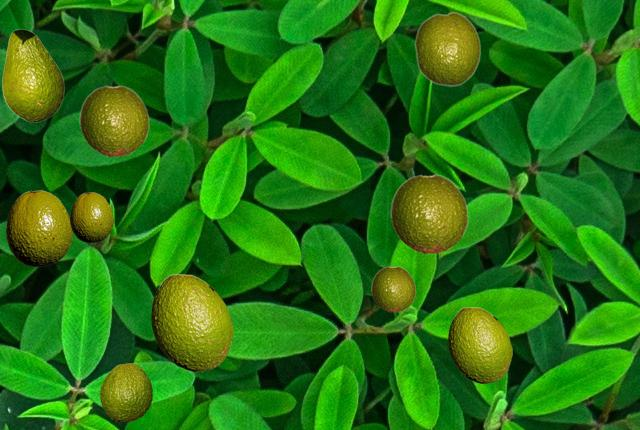avocado: (151, 274, 232, 370), (390, 174, 468, 253), (2, 29, 63, 121), (79, 85, 149, 156), (414, 11, 480, 86), (6, 190, 71, 265), (448, 307, 511, 382), (100, 363, 151, 421), (70, 192, 112, 241), (371, 266, 415, 311)
